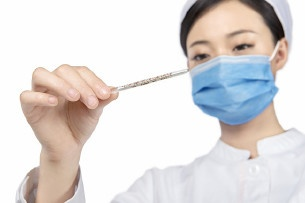Mask: (177, 28, 278, 129)
